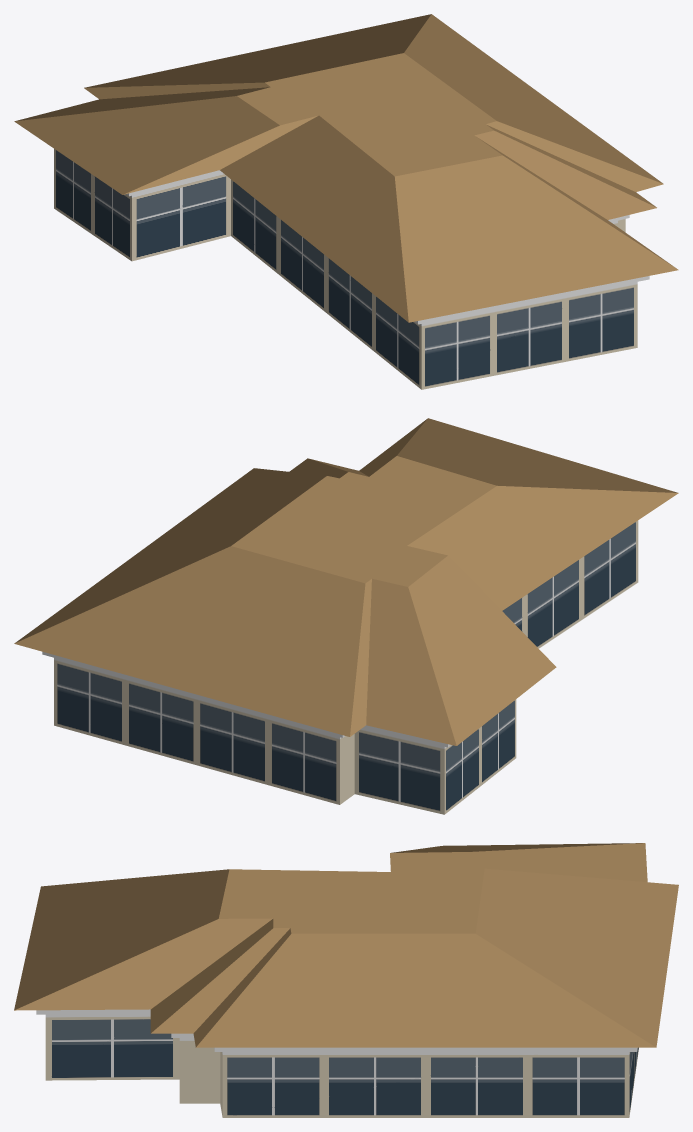
Rendered from arashishack.glb.
3 views of the same model, one above another, from view 1: azimuth 30°, elevation 25°; view 2: azimuth 150°, elevation 25°; view 3: azimuth 270°, elevation 25° (orthographic). The views are drawn at different scales.
Parts seen in each view (by area): view 1: arashishack_lod0; view 2: arashishack_lod0; view 3: arashishack_lod0.
Part boxes in pixels (x1=…): arashishack_lod0: x1=14, y1=14, x2=678, y2=389; arashishack_lod0: x1=14, y1=418, x2=678, y2=814; arashishack_lod0: x1=14, y1=843, x2=678, y2=1117.
Size of what is drawn, in the model's own units: 20.24 by 6.4 by 27.79.
3 materials, 1 textured.
